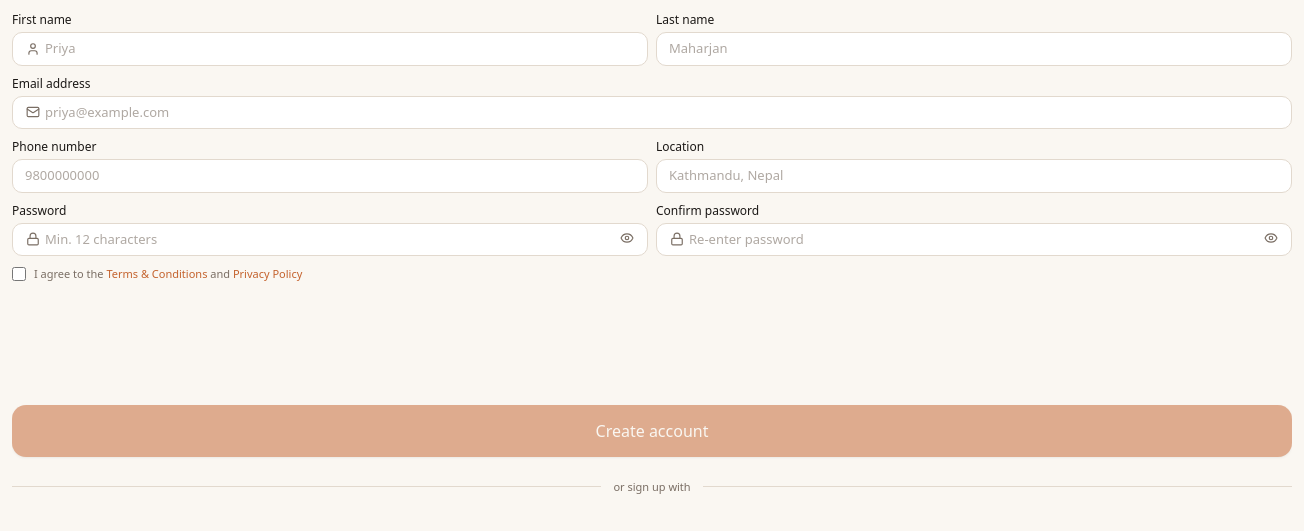
Scenario: RegisterForm › shows a strong password indicator while typing
The width and height of the screenshot is (1304, 531).
In the password field labelled "Password": (330, 239) [12,222,648,256], type "StrongPass123!"
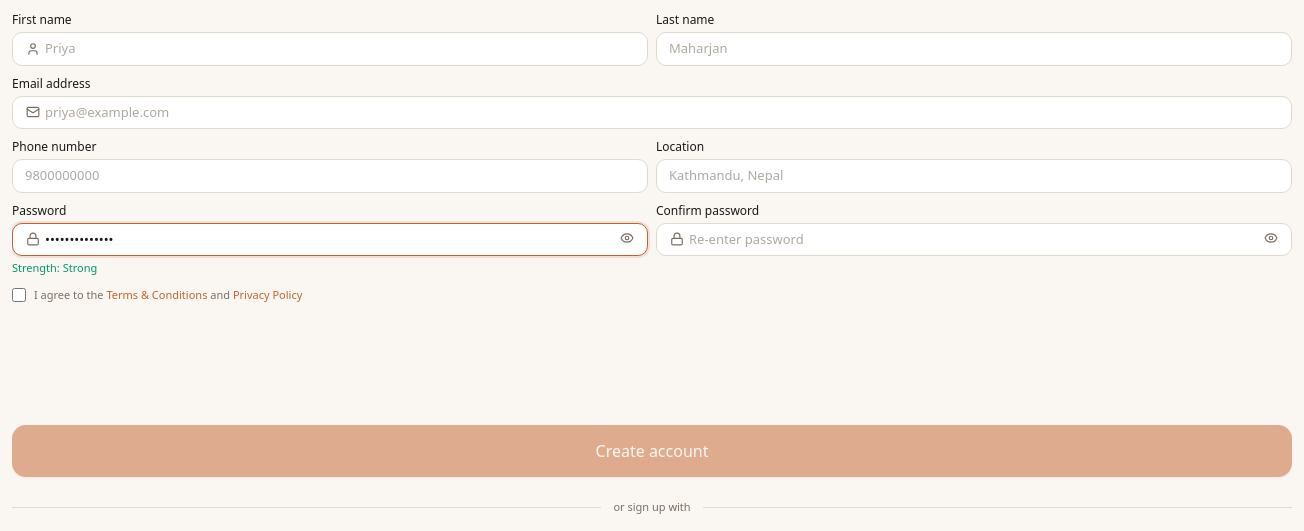
Result: the text "Strength: Strong" is shown at [12,260,97,275]
